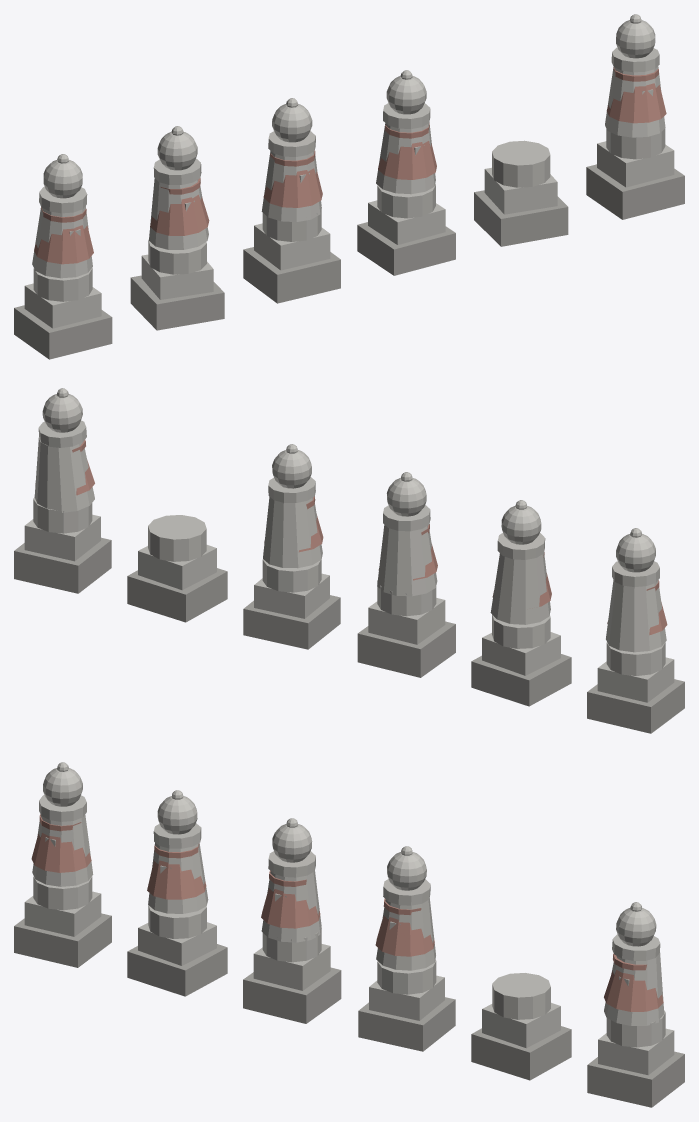
The model's file is Prop_JizoRow.fbx.
3 renders of one model, top to bottom at view 1: azimuth 30°, elevation 25°; view 2: azimuth 150°, elevation 25°; view 3: azimuth 330°, elevation 25°, orthographic.
Visible parts, largest first — view 1: Prop_JizoRow; view 2: Prop_JizoRow; view 3: Prop_JizoRow.
Boxes of the visible parts, bbox=[...] form: Prop_JizoRow: bbox=[14, 14, 684, 359]; Prop_JizoRow: bbox=[14, 388, 684, 733]; Prop_JizoRow: bbox=[14, 762, 684, 1107].
Size of the model in its own units: 362 by 100 by 38.57.
